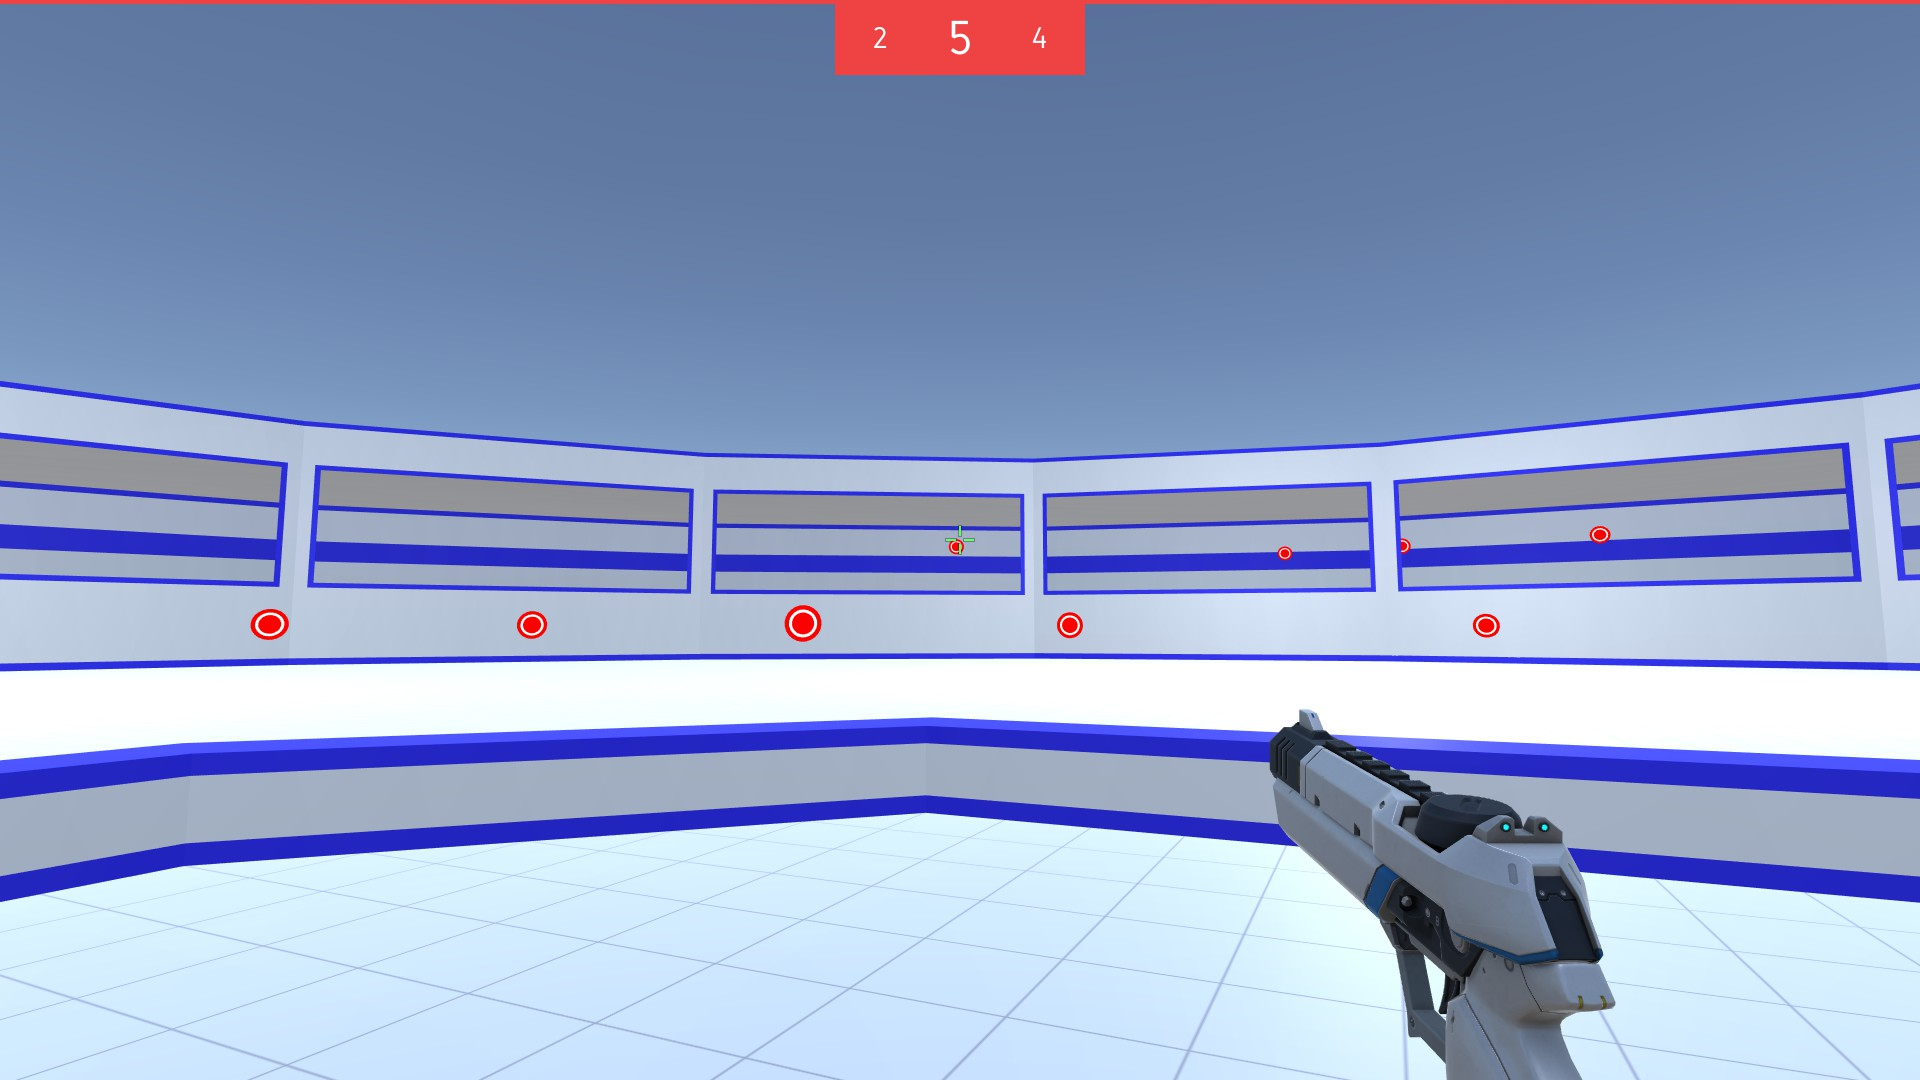target: (783, 605, 823, 642), (251, 607, 289, 642), (514, 609, 550, 640), (1055, 611, 1087, 638), (1472, 612, 1502, 640), (1590, 524, 1611, 546), (947, 537, 967, 554), (1399, 535, 1414, 556), (1276, 545, 1294, 560)
